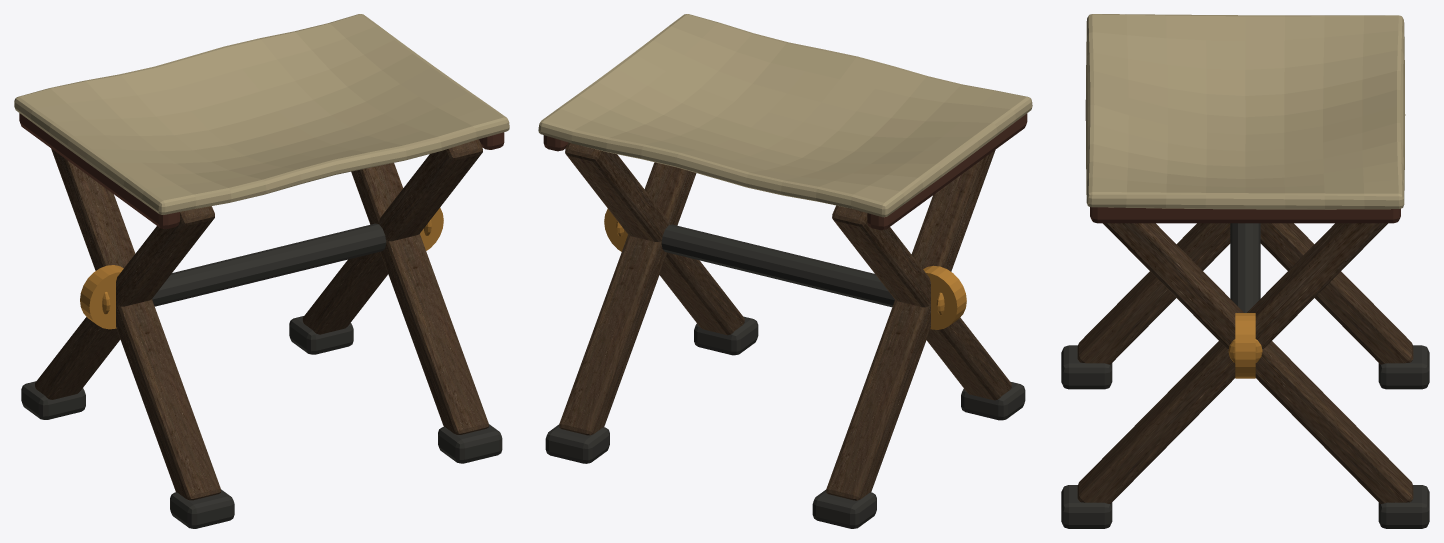
Rendered from campaign-stool.glb.
The picture shows the model from 3 angles, left to right: view 1: azimuth 30°, elevation 25°; view 2: azimuth 150°, elevation 25°; view 3: azimuth 270°, elevation 25°; orthographic projection. The views are drawn at different scales.
Parts seen in each view (by area): view 1: StoolCanvas, StoolFrameB_-1, StoolFrameB_1, StoolFrameA_1, StoolFrameA_-1, StoolCrossBrace, StoolLeatherEdge_-1, StoolFoot_-1_0.25, StoolFoot_1_0.25, StoolPivot_-1, StoolFoot_1_-0.25, StoolFoot_-1_-0.25; view 2: StoolCanvas, StoolFrameA_-1, StoolFrameA_1, StoolFrameB_1, StoolFrameB_-1, StoolCrossBrace, StoolLeatherEdge_-1, StoolFoot_1_-0.25, StoolFoot_-1_-0.25, StoolPivot_-1, StoolFoot_-1_0.25, StoolFoot_1_0.25; view 3: StoolCanvas, StoolFrameA_1, StoolFrameB_1, StoolFrameA_-1, StoolFrameB_-1, StoolLeatherEdge_1, StoolCrossBrace, StoolFoot_-1_-0.25, StoolFoot_-1_0.25, StoolFoot_1_-0.25, StoolFoot_1_0.25, StoolPivot_1.
Part boxes in pixels (x1,y1,x2,y2): StoolCanvas: (14,14,509,214); StoolFrameB_-1: (51,148,220,500); StoolFrameB_1: (351,163,488,434); StoolFrameA_1: (302,139,482,334); StoolFrameA_-1: (35,206,214,399); StoolCrossBrace: (152,223,386,306); StoolLeatherEdge_-1: (19,113,179,228); StoolFoot_-1_0.25: (170,489,234,528); StoolFoot_1_0.25: (438,424,502,463); StoolPivot_-1: (80,265,123,329); StoolFoot_1_-0.25: (289,316,353,354); StoolFoot_-1_-0.25: (21,381,85,419); StoolCanvas: (538,14,1032,217); StoolFrameA_-1: (826,150,995,500); StoolFrameA_1: (559,162,696,435); StoolFrameB_1: (565,142,744,335); StoolFrameB_-1: (832,205,1011,400); StoolCrossBrace: (661,224,894,307); StoolLeatherEdge_-1: (867,113,1027,229); StoolFoot_1_-0.25: (545,424,609,463); StoolFoot_-1_-0.25: (812,489,876,528); StoolPivot_-1: (923,265,966,329); StoolFoot_-1_0.25: (961,381,1025,420); StoolFoot_1_0.25: (694,316,758,355); StoolCanvas: (1085,14,1405,209); StoolFrameA_1: (1103,223,1413,503); StoolFrameB_1: (1077,223,1387,503); StoolFrameA_-1: (1260,223,1413,364); StoolFrameB_-1: (1077,223,1230,364); StoolLeatherEdge_1: (1090,207,1400,223); StoolCrossBrace: (1230,223,1260,312); StoolFoot_-1_-0.25: (1378,345,1429,389); StoolFoot_-1_0.25: (1061,345,1112,389); StoolFoot_1_-0.25: (1378,485,1429,528); StoolFoot_1_0.25: (1061,485,1112,528); StoolPivot_1: (1235,313,1255,378).
Size of the model in its own units: 0.688 by 0.6032 by 0.58.
5 materials, 1 textured.
